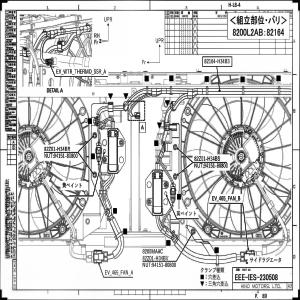PartNumber: (44, 145, 71, 152), (142, 254, 169, 261), (193, 155, 220, 162), (204, 58, 230, 64), (53, 152, 78, 158), (152, 262, 176, 268), (204, 162, 228, 168)
